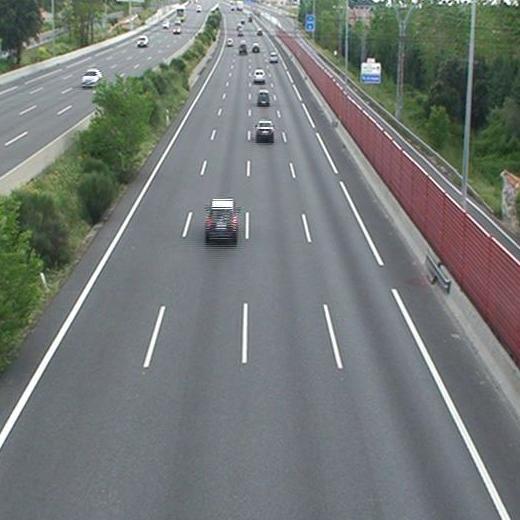car: (205, 200, 237, 237), (255, 121, 274, 137), (258, 89, 270, 104), (253, 70, 265, 82), (239, 44, 247, 56), (269, 53, 276, 63)
